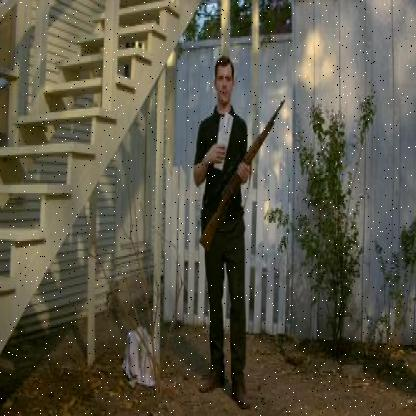rifle: (197, 96, 287, 256)
